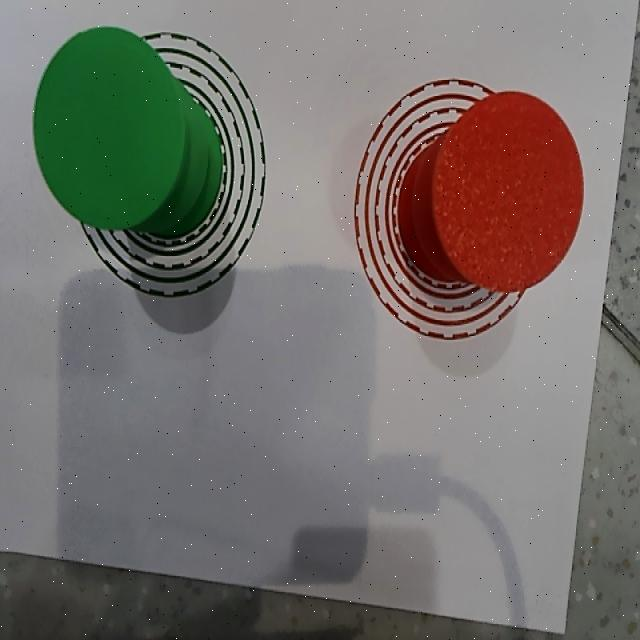g: (34, 27, 184, 230)
r: (432, 92, 585, 293)
